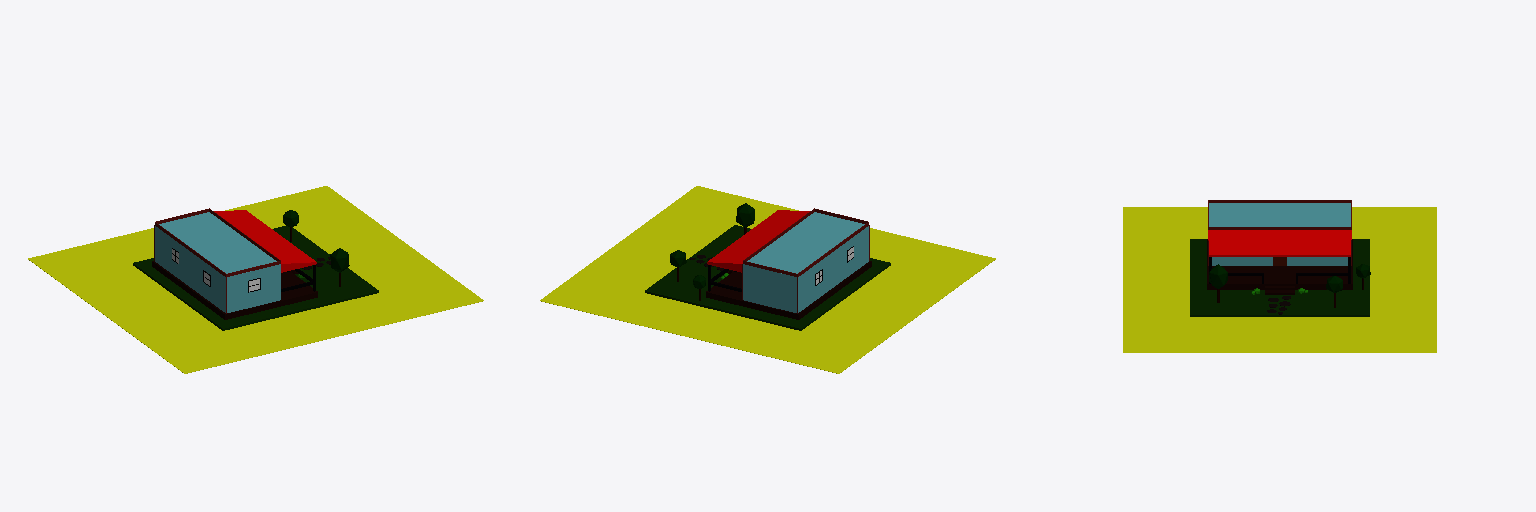
Rendered from field-house.obj.
3 renders of one model, left to right at view 1: azimuth 30°, elevation 25°; view 2: azimuth 150°, elevation 25°; view 3: azimuth 270°, elevation 25°, orthographic.
Visible parts, largest first — view 1: Background, Cube.003, Field_House, Cube.004, Cube.002; view 2: Background, Cube.003, Field_House, Cube.004, Cube.002; view 3: Background, Field_House, Cube.003, Cube.004, Cube.002.
Part boxes in pixels (x1,y1,x2,y2): Background: (28,186,483,373); Cube.003: (155,212,280,312); Field_House: (133,226,378,330); Cube.004: (214,210,316,272); Cube.002: (152,261,317,319); Background: (540,186,995,373); Cube.003: (743,212,868,312); Field_House: (645,225,890,330); Cube.004: (707,210,809,272); Cube.002: (706,261,871,319); Background: (1123,207,1436,352); Field_House: (1190,239,1369,316); Cube.003: (1209,203,1350,265); Cube.004: (1208,230,1351,256); Cube.002: (1207,239,1352,289).
Bounding box in the file's own units: 30.66 × 4.69 × 27.9.